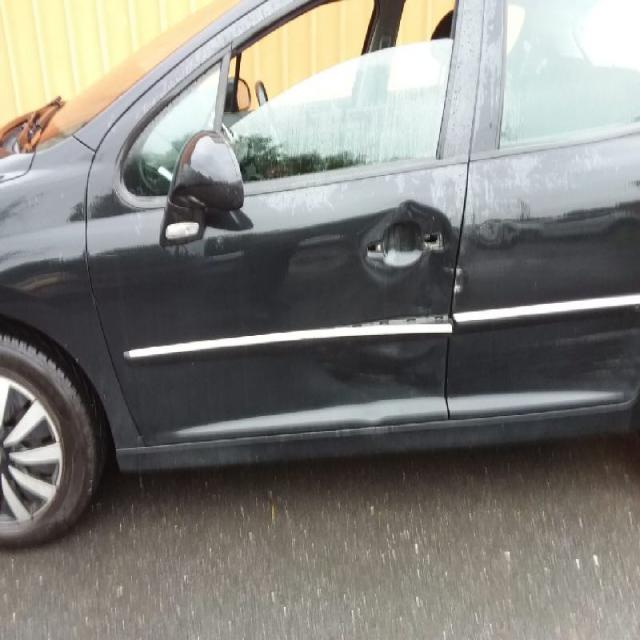porte-avant: (130, 3, 485, 450)
